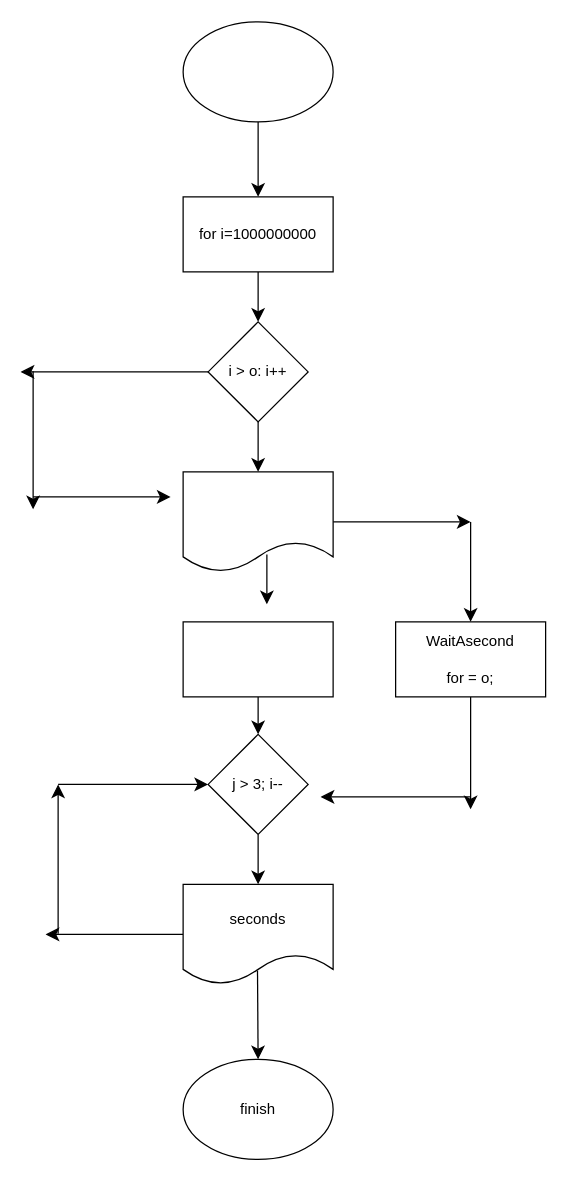
Image size: 568x1181. Some labels were removed from this diagram. The shapes that lost their labels are listed below. From the top down, each one's centre as x and y in pixels, then its label:
point 257,71: Start
point 257,521: wait
point 257,659: call
